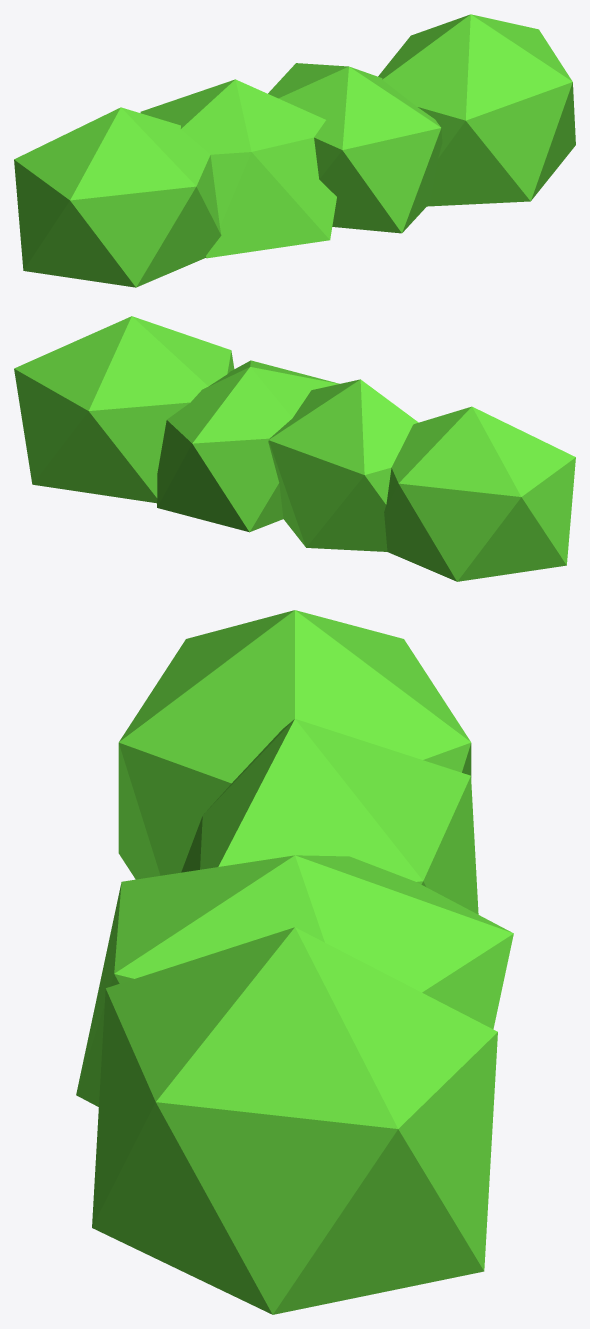
Rendered from bush_long.fbx.
3 renders of one model, top to bottom at view 1: azimuth 30°, elevation 25°; view 2: azimuth 150°, elevation 25°; view 3: azimuth 270°, elevation 25°, orthographic. The views are drawn at different scales.
Visible parts, largest first — view 1: Icosphere.015; view 2: Icosphere.015; view 3: Icosphere.015.
Boxes of the visible parts, bbox=[...] form: Icosphere.015: bbox=[14, 14, 575, 287]; Icosphere.015: bbox=[14, 316, 575, 581]; Icosphere.015: bbox=[76, 610, 513, 1314].
Size of the model in its own units: 497 by 163 by 177.
